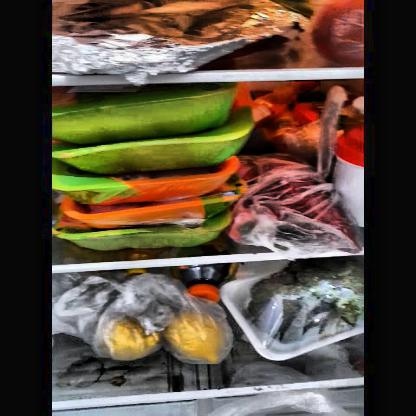broccoli: (248, 260, 363, 344)
chicken: (57, 95, 233, 240)
lemon: (168, 316, 232, 366), (99, 313, 158, 359)
